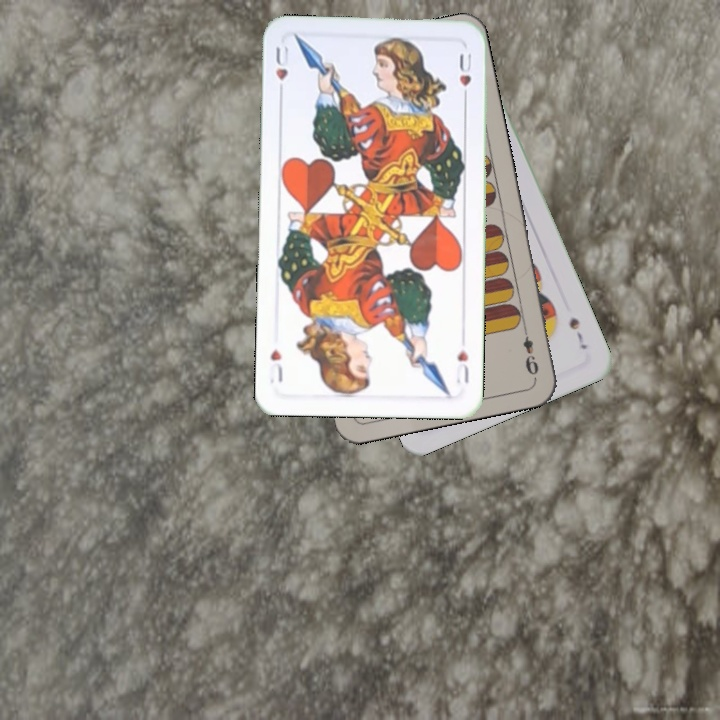E9: (518, 322, 541, 381)
HU: (272, 42, 293, 99), (452, 345, 471, 386)
S7: (565, 313, 590, 352)
